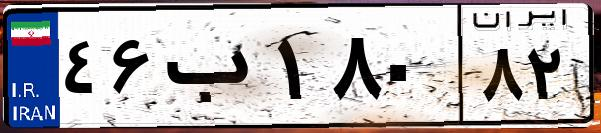0: (385, 28, 445, 110)
1: (270, 28, 330, 110)
2: (525, 38, 570, 115)
4: (57, 26, 110, 100)
6: (110, 28, 158, 98)
8: (330, 28, 385, 110), (475, 38, 525, 113)
ب: (158, 20, 270, 120)
